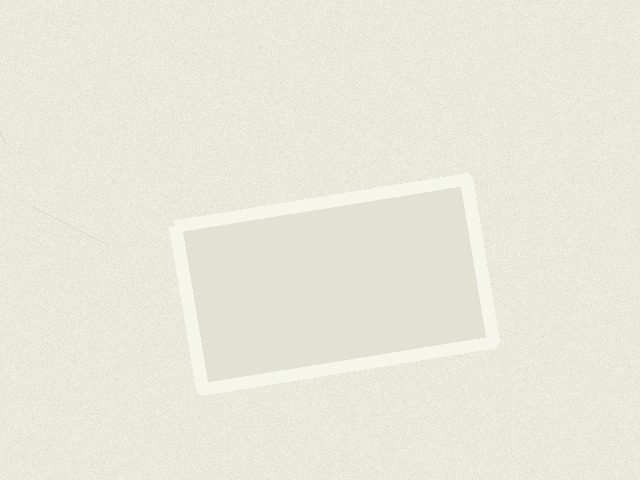parking_area: (175, 179, 493, 389)
